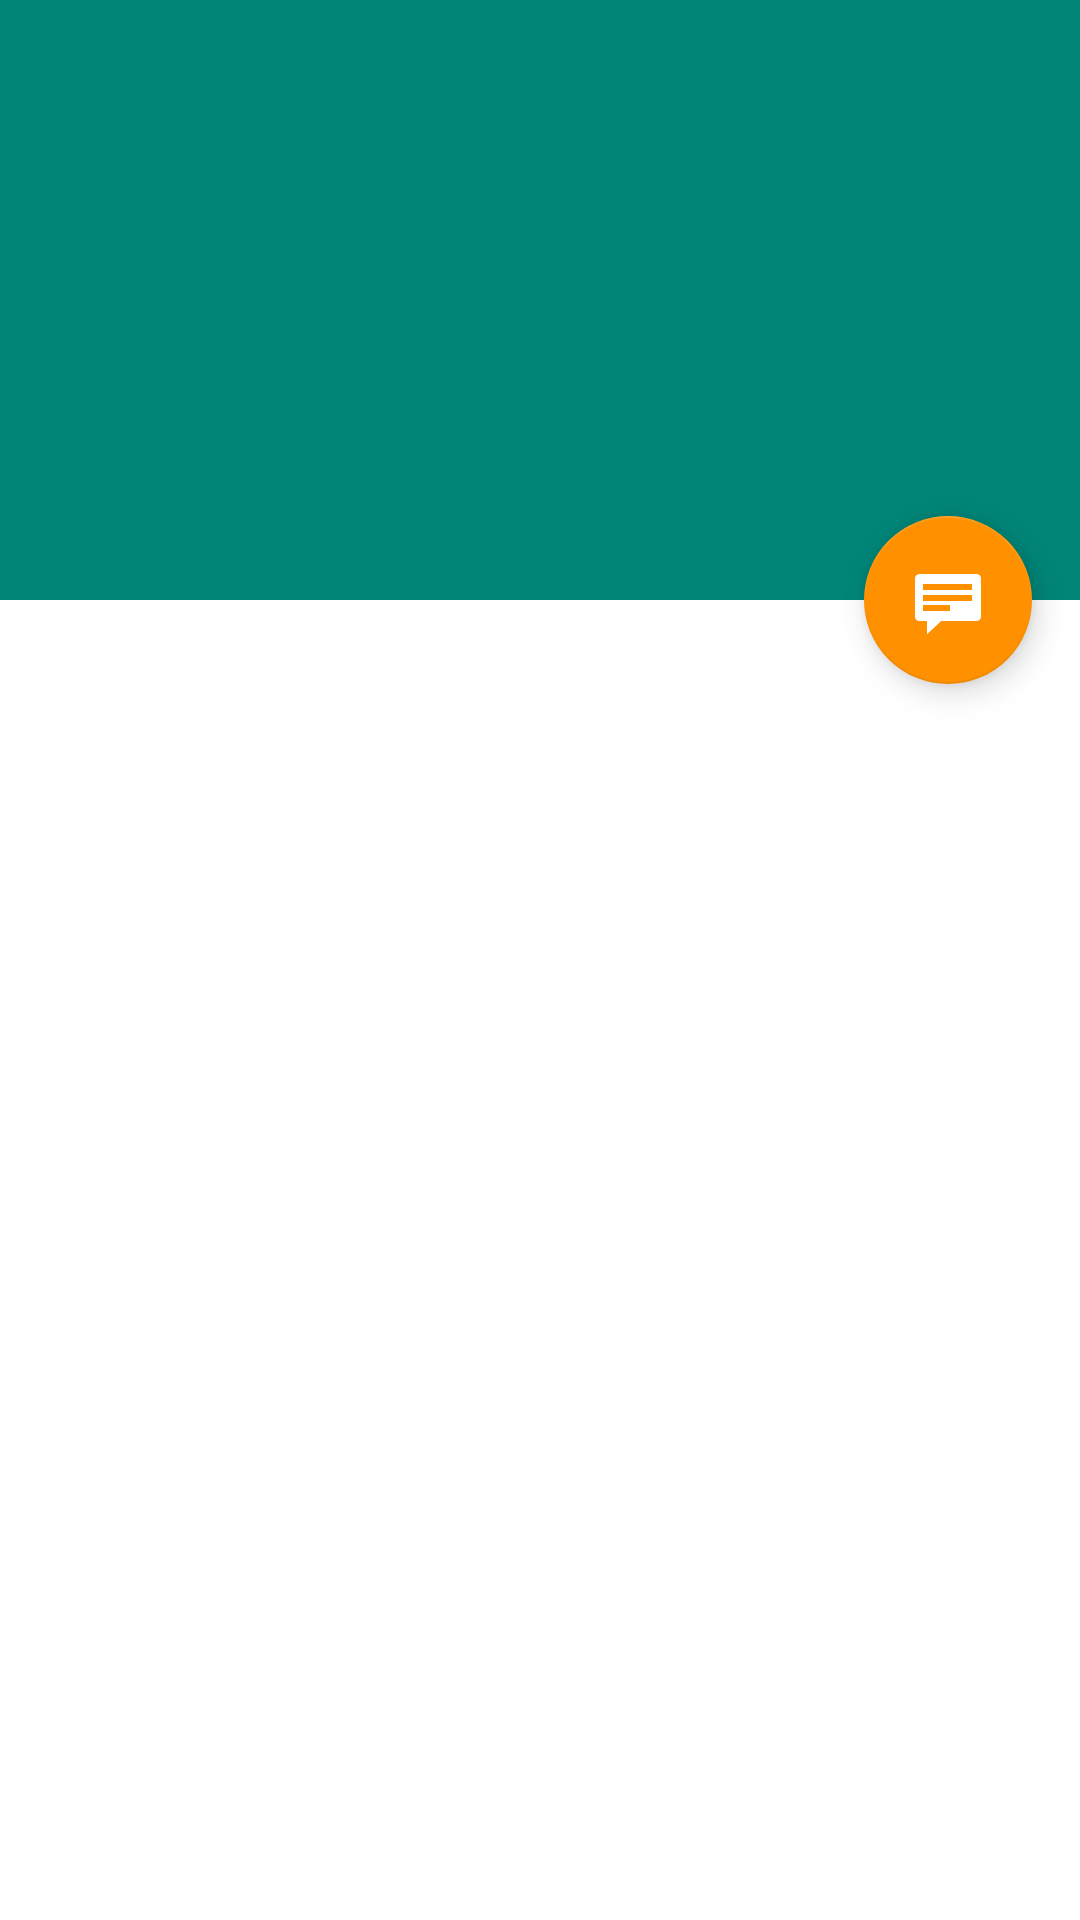

Screen size 1080px x 1920px. Icon name, then its center in pixels as (x,y):
chat: (948,600)
